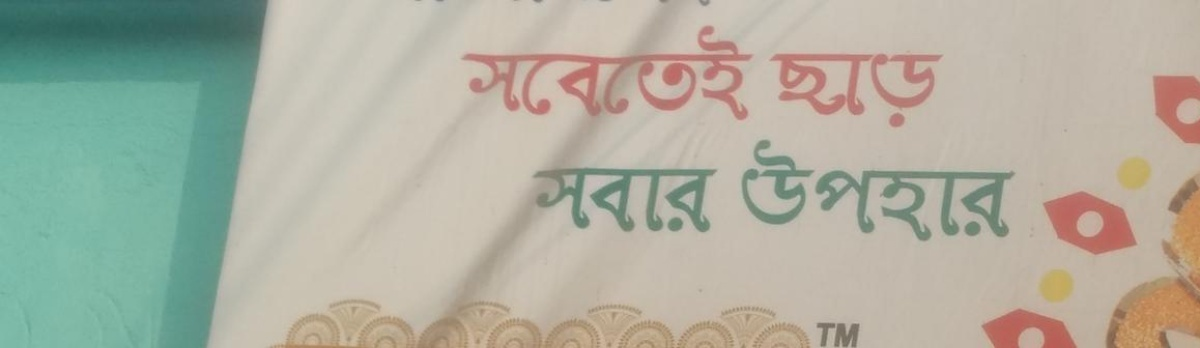text: (737, 133, 752, 246), (753, 133, 768, 246), (769, 133, 784, 246), (785, 133, 800, 246), (801, 133, 816, 246), (817, 133, 832, 246), (833, 133, 848, 246), (849, 133, 864, 246), (865, 133, 880, 246), (881, 133, 896, 246), (897, 133, 912, 246), (913, 133, 928, 246), (929, 133, 944, 246), (945, 133, 960, 246), (961, 133, 976, 246), (977, 133, 992, 246), (993, 133, 1008, 246), (465, 22, 480, 132), (481, 22, 496, 132), (497, 22, 512, 132), (513, 22, 528, 132), (529, 22, 544, 132), (545, 22, 560, 132), (561, 22, 576, 132), (577, 22, 592, 132), (593, 22, 608, 132), (609, 22, 624, 132), (625, 22, 640, 132), (641, 22, 656, 132), (657, 22, 672, 132), (673, 22, 688, 132), (689, 22, 704, 132), (705, 22, 720, 132), (721, 22, 736, 132), (737, 22, 752, 132), (753, 22, 768, 132), (1009, 133, 1020, 246), (529, 157, 544, 239), (545, 157, 560, 239), (561, 157, 576, 239), (577, 157, 592, 239), (593, 157, 608, 239), (609, 157, 624, 239), (625, 157, 640, 239), (641, 157, 656, 239), (657, 157, 672, 239), (673, 157, 688, 239), (689, 157, 704, 239), (705, 157, 720, 239), (769, 48, 784, 128), (785, 48, 800, 128), (801, 48, 816, 128), (817, 48, 832, 128), (833, 48, 848, 128), (849, 48, 864, 128), (865, 48, 880, 128), (881, 48, 896, 128), (897, 48, 912, 128), (913, 48, 928, 128), (929, 48, 944, 128), (455, 22, 464, 132), (769, 22, 777, 132), (817, 311, 832, 348), (833, 311, 848, 348), (849, 311, 864, 348), (945, 48, 951, 128), (721, 157, 726, 239), (865, 311, 876, 348), (763, 48, 768, 128), (734, 133, 736, 246), (527, 157, 528, 239), (814, 311, 816, 348)
